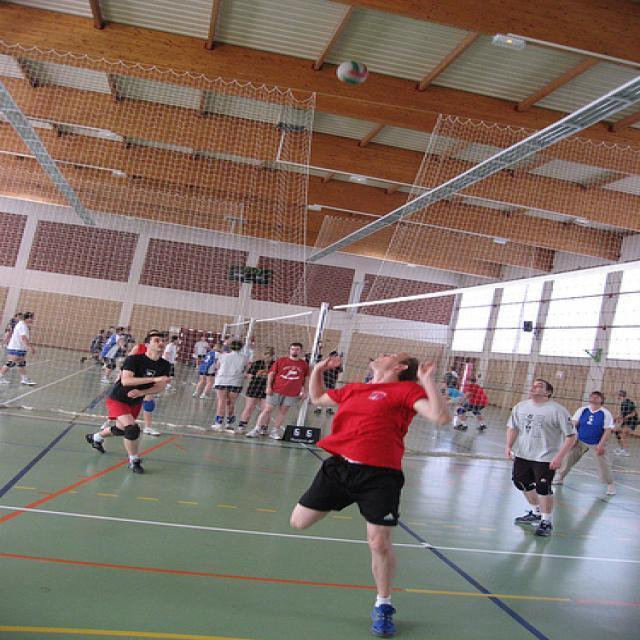volleyball: (337, 61, 368, 84)
